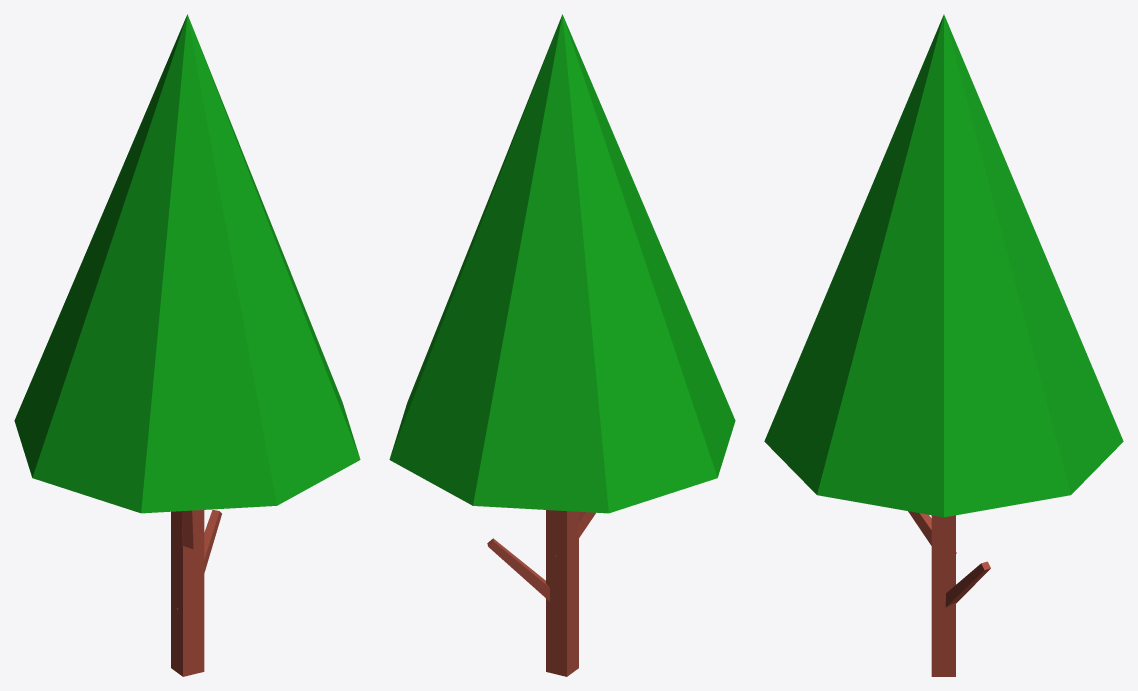
File: pine tree 1.fbx
The picture shows the model from 3 angles, left to right: view 1: azimuth 30°, elevation 25°; view 2: azimuth 150°, elevation 25°; view 3: azimuth 270°, elevation 25°; orthographic projection.
Parts seen in each view (by area): view 1: Cone.001, pine 0; view 2: Cone.001, pine 0; view 3: Cone.001, pine 0.
Boxes of the visible parts, x1=… form: Cone.001: x1=14, y1=14, x2=360, y2=513; pine 0: x1=171, y1=509, x2=221, y2=676; Cone.001: x1=389, y1=14, x2=735, y2=513; pine 0: x1=487, y1=510, x2=595, y2=676; Cone.001: x1=764, y1=14, x2=1123, y2=517; pine 0: x1=908, y1=511, x2=990, y2=676.
Bounding box in the file's own units: 49.5 × 99.98 × 49.5.
